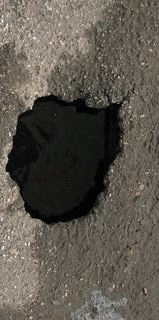Spalling: (4, 93, 126, 226)
